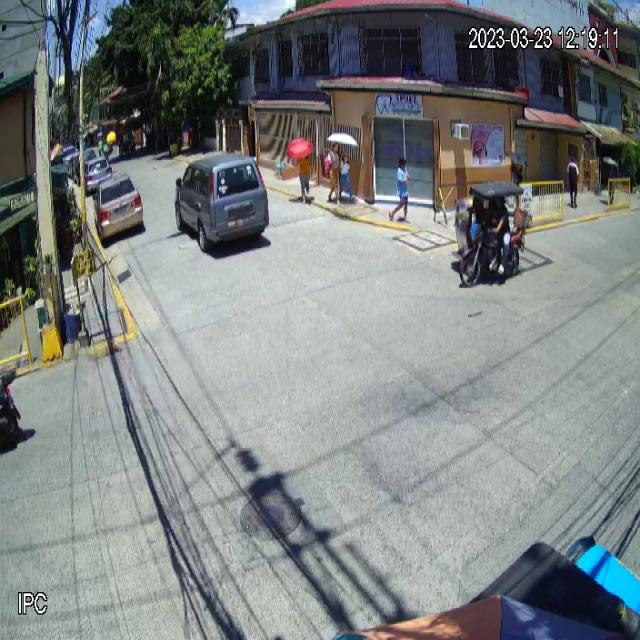Car: (174, 151, 270, 253)
Tricycle: (455, 179, 533, 290)
